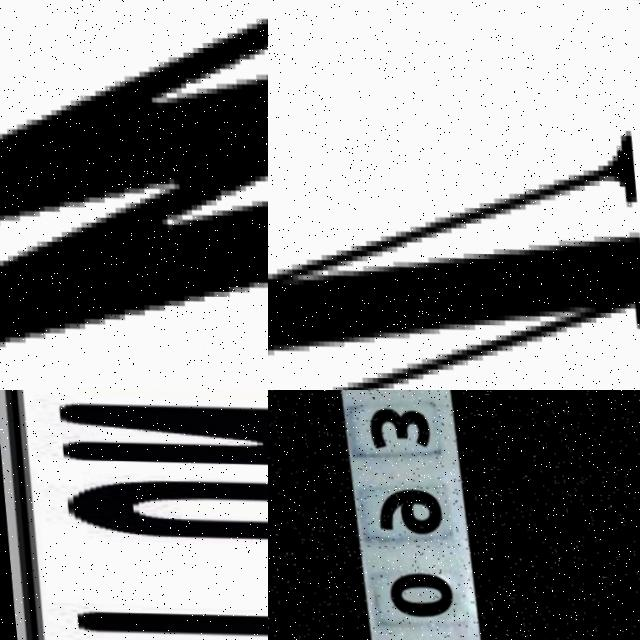0: (63, 475, 268, 547), (361, 562, 464, 635)
3: (349, 398, 442, 465)
9: (352, 476, 456, 552)
N: (268, 112, 640, 390), (58, 397, 268, 471)
T: (59, 596, 268, 640)
W: (0, 0, 268, 385)
